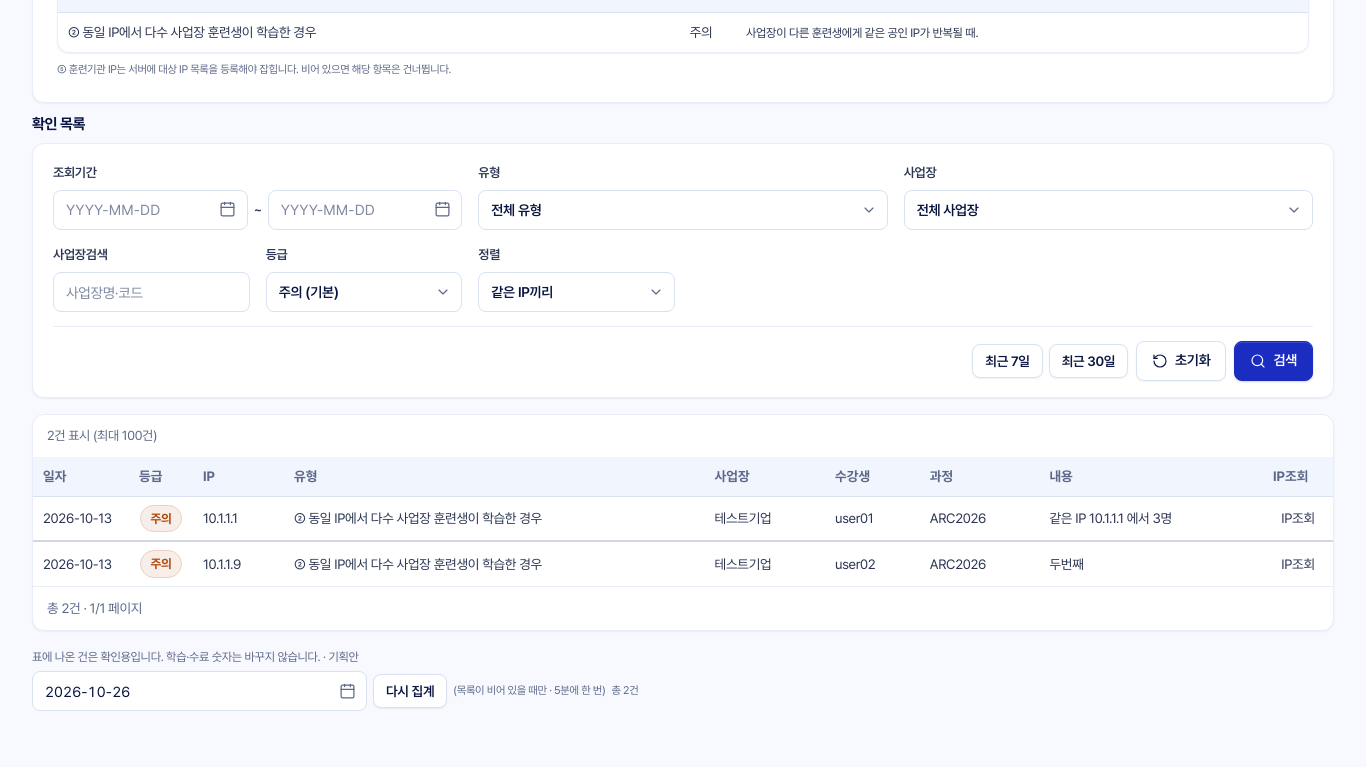
it: ruby-ops pages › IP 모니터링: same_ip sort draws a separator before a new IP; 다시 집계 posts the date and shows the PHP flash
(page scrolled)
Expected: the text "두번째" is shown, [1040,542,1263,586]
Click the button "다시 집계" at (410, 691), box [373,674,447,708]
(page scrolled)
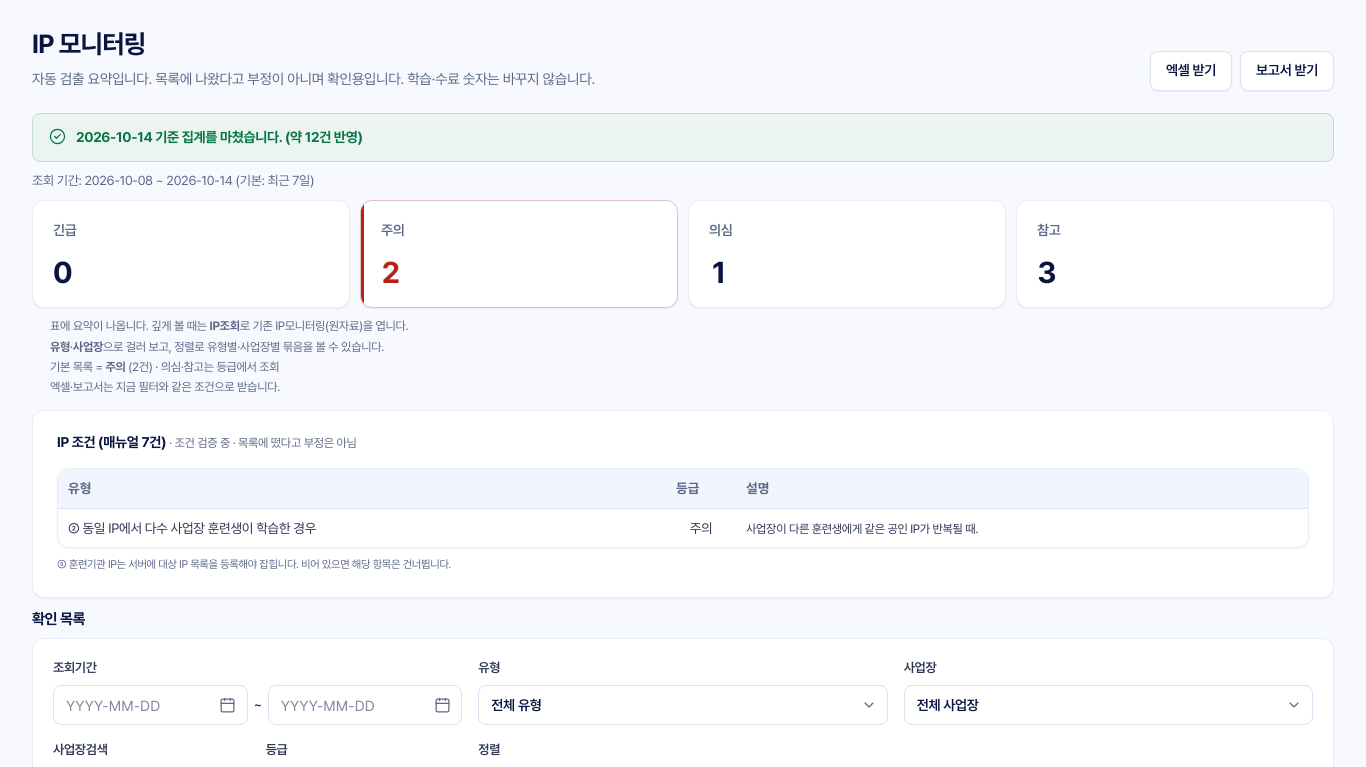
Result: the text "2026-10-14 기준 집계를 마쳤습니다. (약 12건 반영)" is shown at [76,129,363,145]
